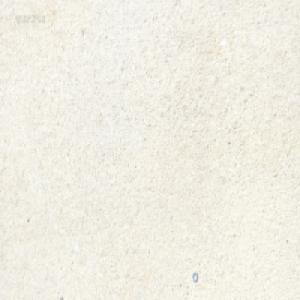Washer: (192, 270, 198, 282)
